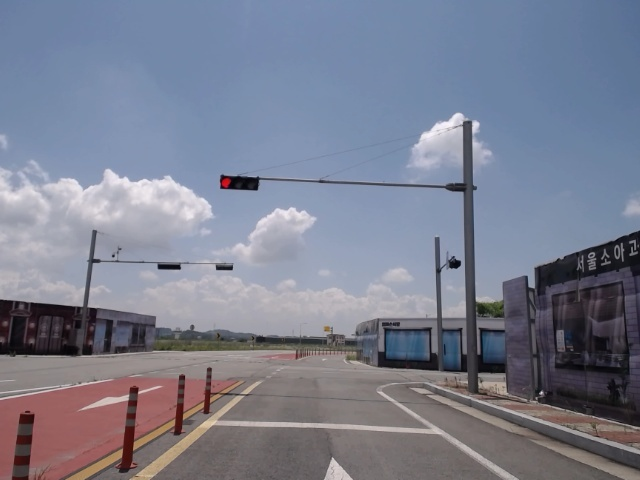red_3: (220, 174, 259, 192)
